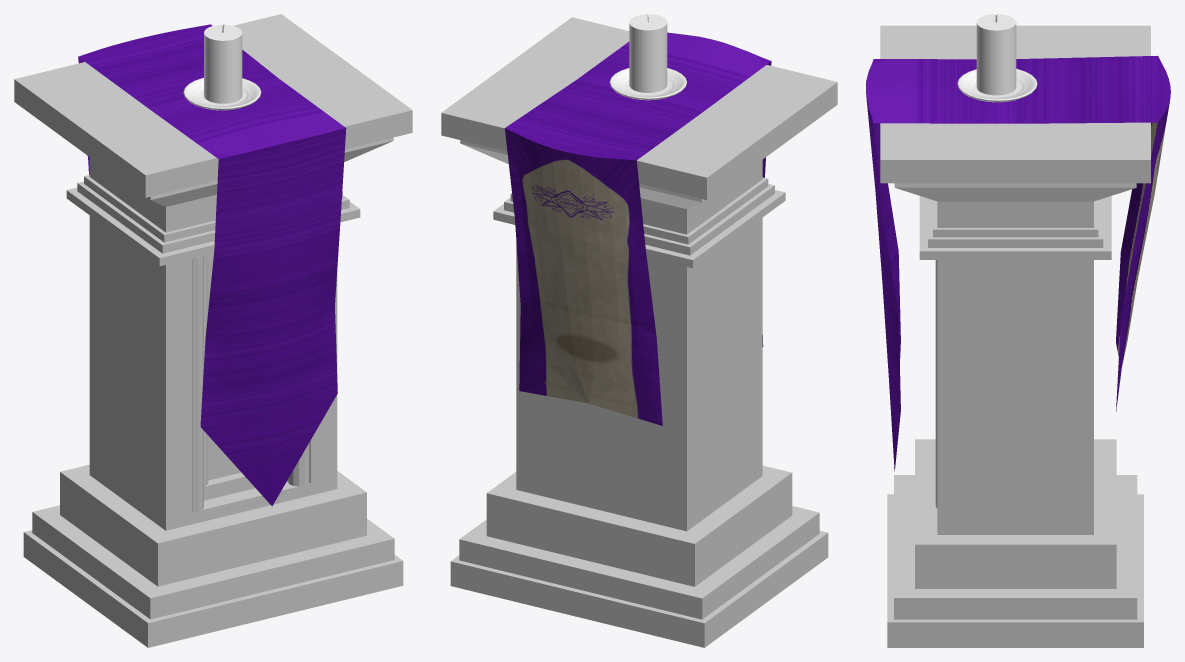
Rendered from PedestaisCripta_INTE.fbx.
3 renders of one model, left to right at view 1: azimuth 30°, elevation 25°; view 2: azimuth 150°, elevation 25°; view 3: azimuth 270°, elevation 25°, orthographic. The views are drawn at different scales.
Parts seen in each view (by area): view 1: PedestalCripta_INTE, Pano, Vela, Prato; view 2: PedestalCripta_INTE, Pano, Vela, Prato; view 3: PedestalCripta_INTE, Pano, Vela, Prato.
Part boxes in pixels (x1,y1,x2,y2): PedestalCripta_INTE: (14,14,412,647); Pano: (78,24,346,506); Vela: (204,24,242,103); Prato: (183,78,261,110); PedestalCripta_INTE: (441,17,837,647); Pano: (504,32,771,425); Vela: (629,14,667,92); Prato: (609,68,687,100); PedestalCripta_INTE: (880,25,1150,647); Pano: (866,55,1170,471); Vela: (976,14,1016,95); Prato: (957,68,1037,102).
Size of the model in its own units: 57.98 by 115 by 55.62.
4 materials, 1 textured.
